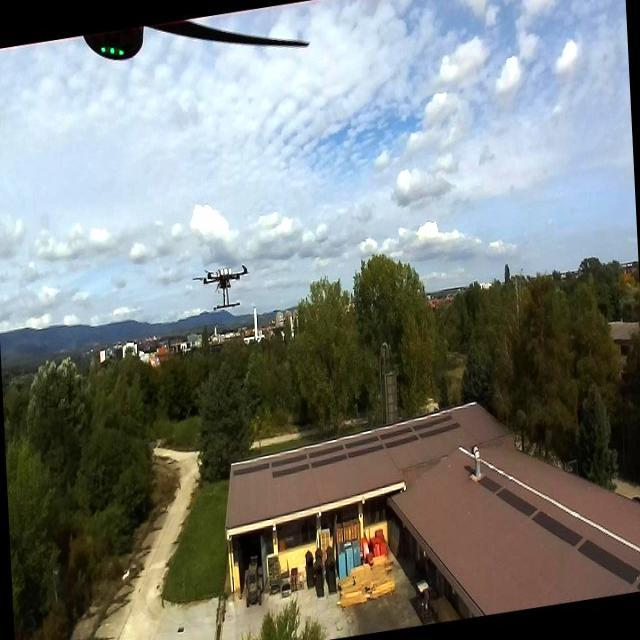drone: (196, 256, 250, 316)
